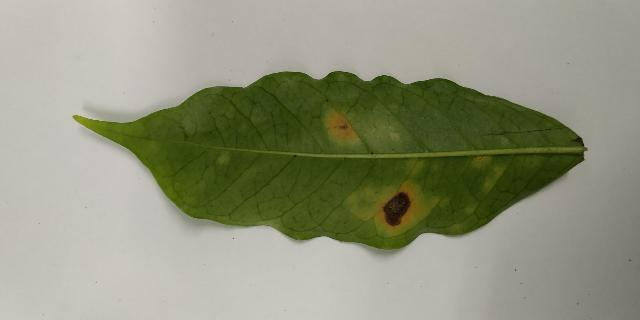miner: (346, 178, 448, 237), (325, 108, 360, 143), (483, 166, 505, 191), (472, 154, 491, 165)
